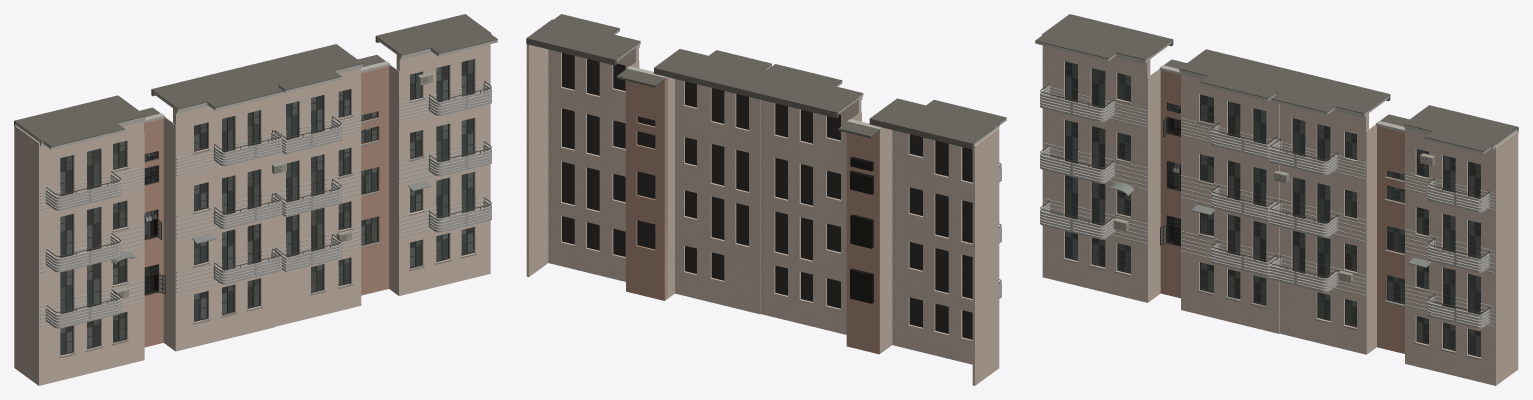
File: jingan-jkk-apartments-changle-street-front-web.glb
3 views of the same model, side by side, from view 1: azimuth 30°, elevation 25°; view 2: azimuth 150°, elevation 25°; view 3: azimuth 330°, elevation 25° (orthographic).
Parts seen in each view (by area): view 1: J.K.K.公寓长乐路临街立面与弧形阳台; view 2: J.K.K.公寓长乐路临街立面与弧形阳台; view 3: J.K.K.公寓长乐路临街立面与弧形阳台.
Part boxes in pixels (left/top/right/bottom): J.K.K.公寓长乐路临街立面与弧形阳台: left=14, top=14, right=497, bottom=385; J.K.K.公寓长乐路临街立面与弧形阳台: left=526, top=14, right=1006, bottom=385; J.K.K.公寓长乐路临街立面与弧形阳台: left=1035, top=14, right=1518, bottom=385.
Size of the model in its own units: 29.56 by 15.32 by 4.23.
Materials: 32 (1 with a texture image).
